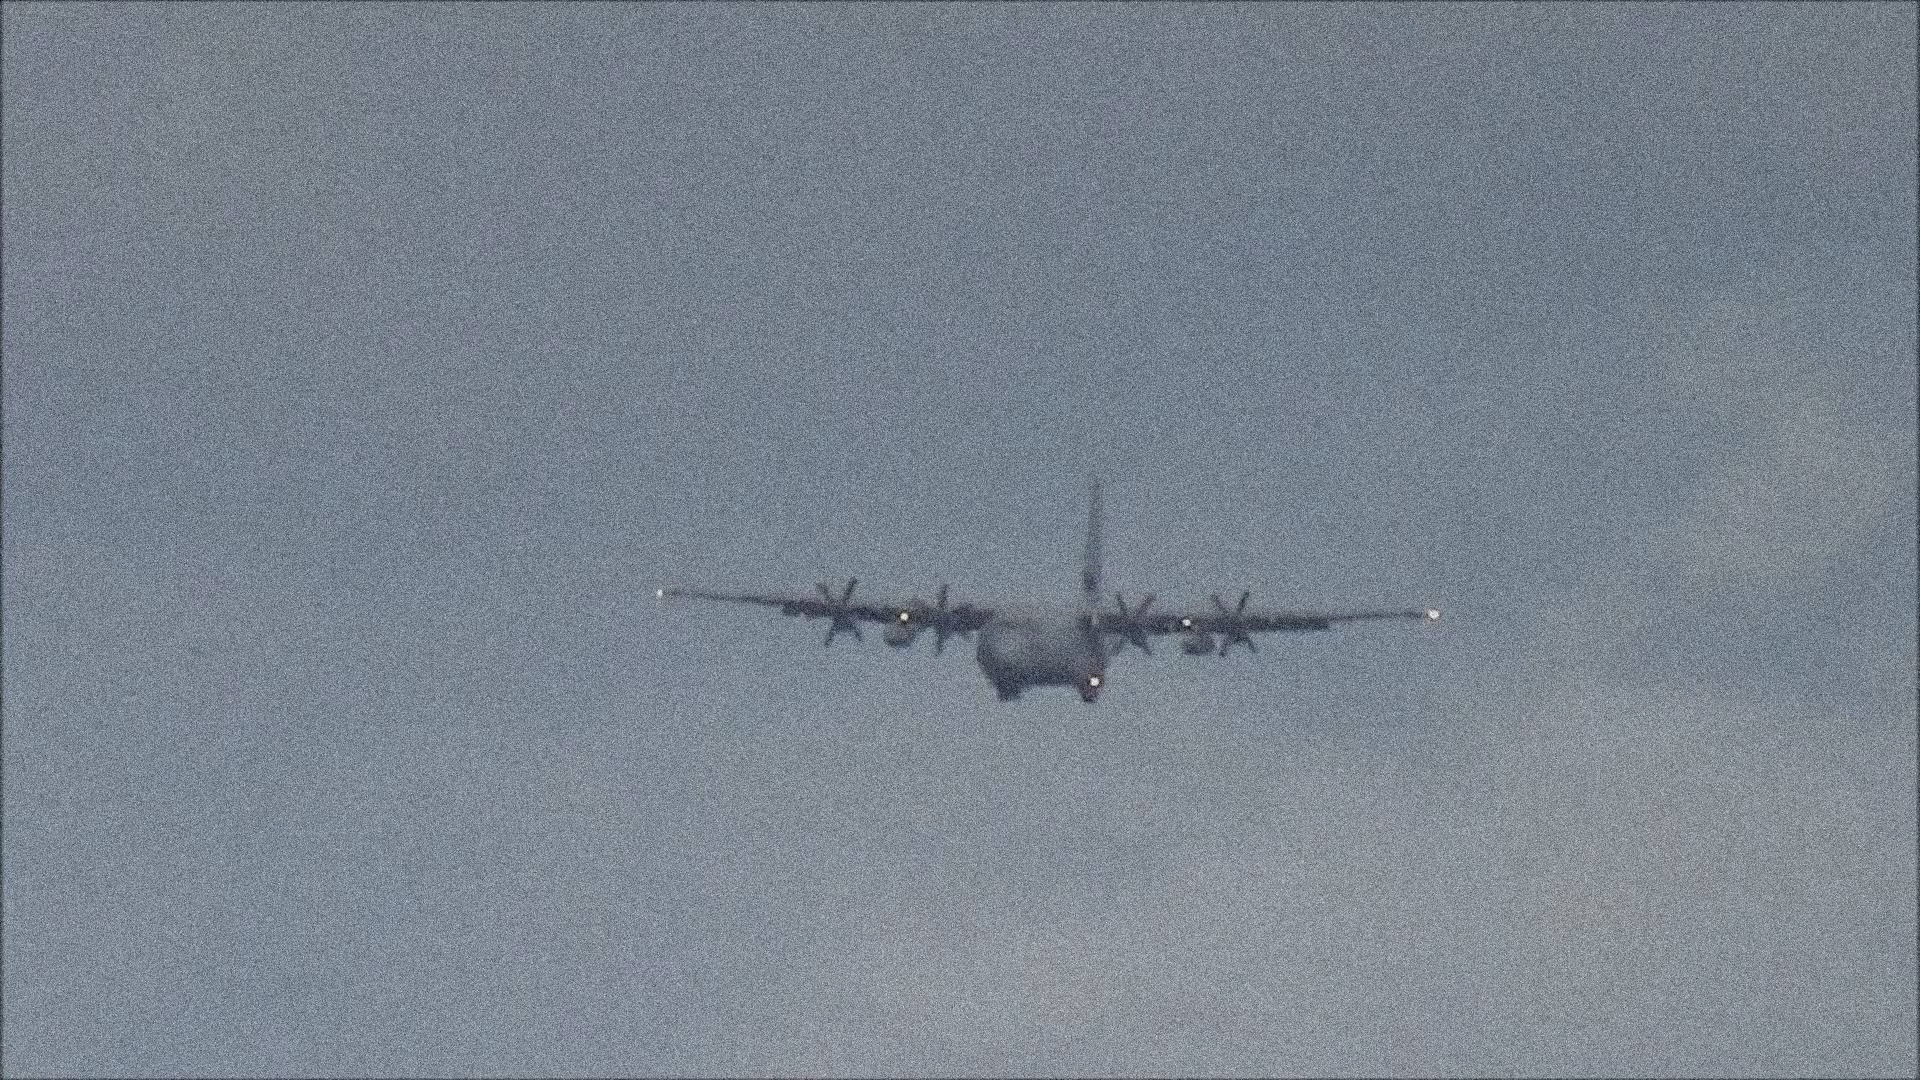Airplane: (666, 488, 1447, 703)
